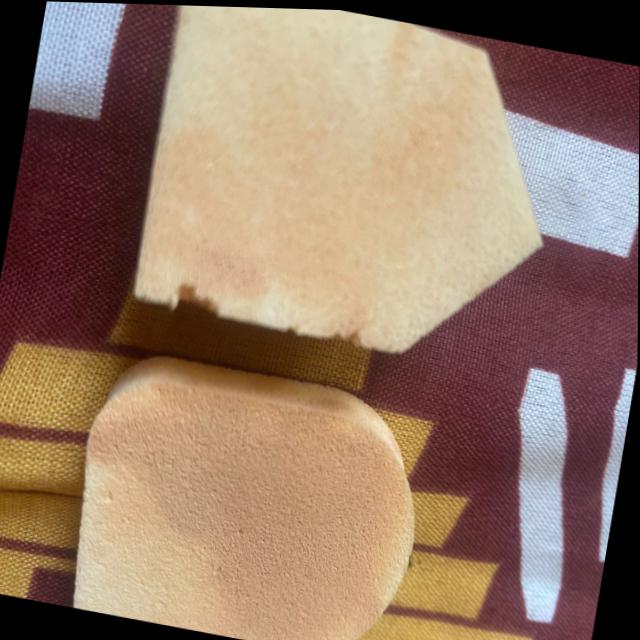beauty blender: (93, 2, 587, 388), (39, 314, 458, 640)
